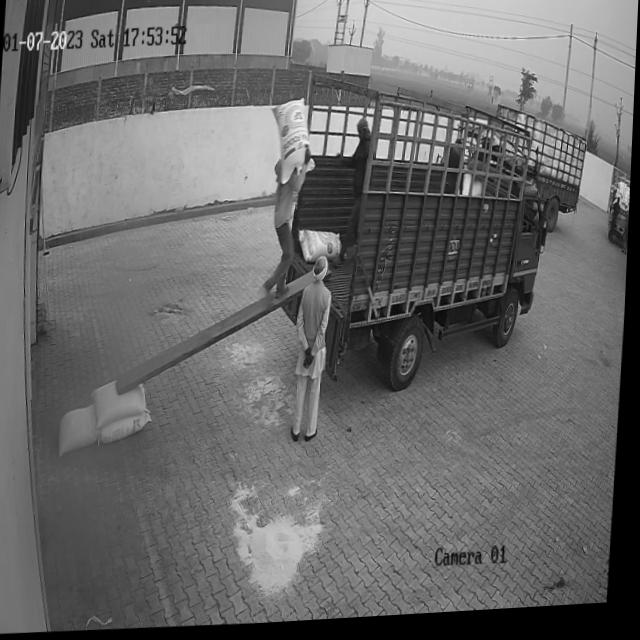sack: (269, 100, 319, 187), (93, 380, 151, 428), (61, 403, 102, 456), (298, 228, 345, 269), (104, 413, 155, 444)
